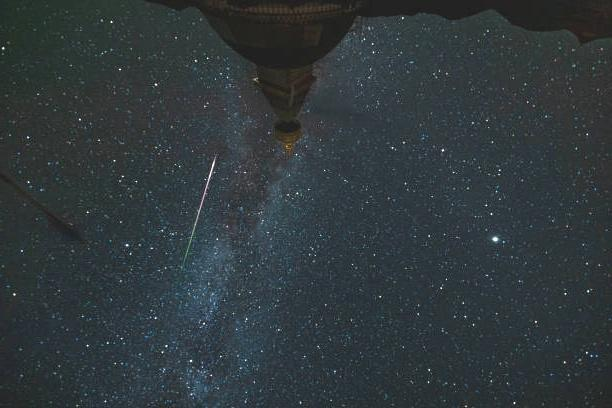meteorite: (185, 153, 223, 245)
